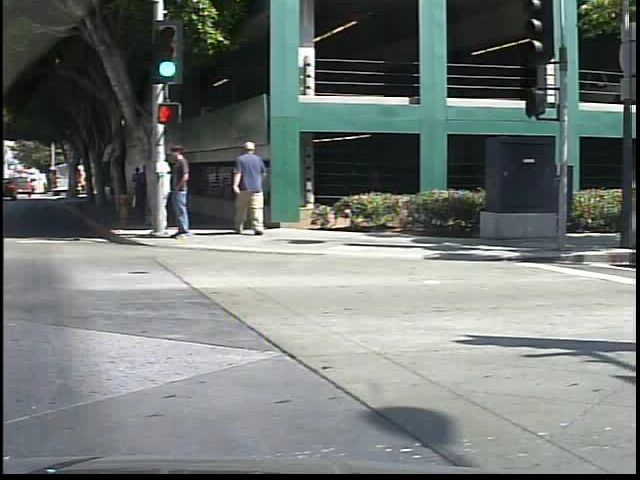person: (231, 137, 285, 236), (165, 140, 204, 246), (157, 147, 183, 231), (151, 164, 174, 220)
